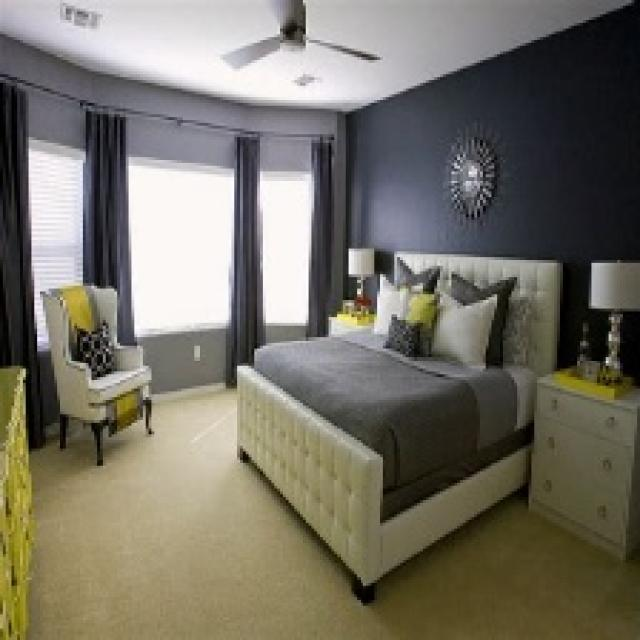Bed: (234, 248, 563, 603)
